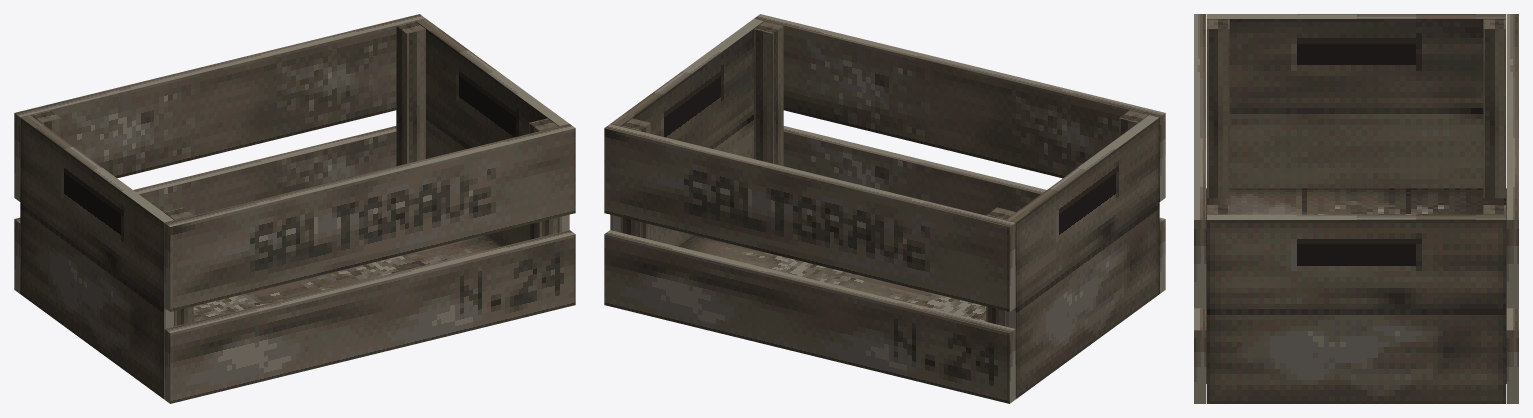
Rendered from fish_crate.glb.
The picture shows the model from 3 angles, left to right: view 1: azimuth 30°, elevation 25°; view 2: azimuth 150°, elevation 25°; view 3: azimuth 270°, elevation 25°; orthographic projection. The views are drawn at different scales.
Visible parts, largest first — view 1: fish_crate; view 2: fish_crate; view 3: fish_crate.
Boxes of the visible parts, box(x1,y1,x2,y2) form: fish_crate: box(14, 14, 575, 403); fish_crate: box(604, 14, 1165, 403); fish_crate: box(1194, 14, 1518, 403).
Size of the model in its own units: 0.6 by 0.25 by 0.4.
1 material, 1 textured.
